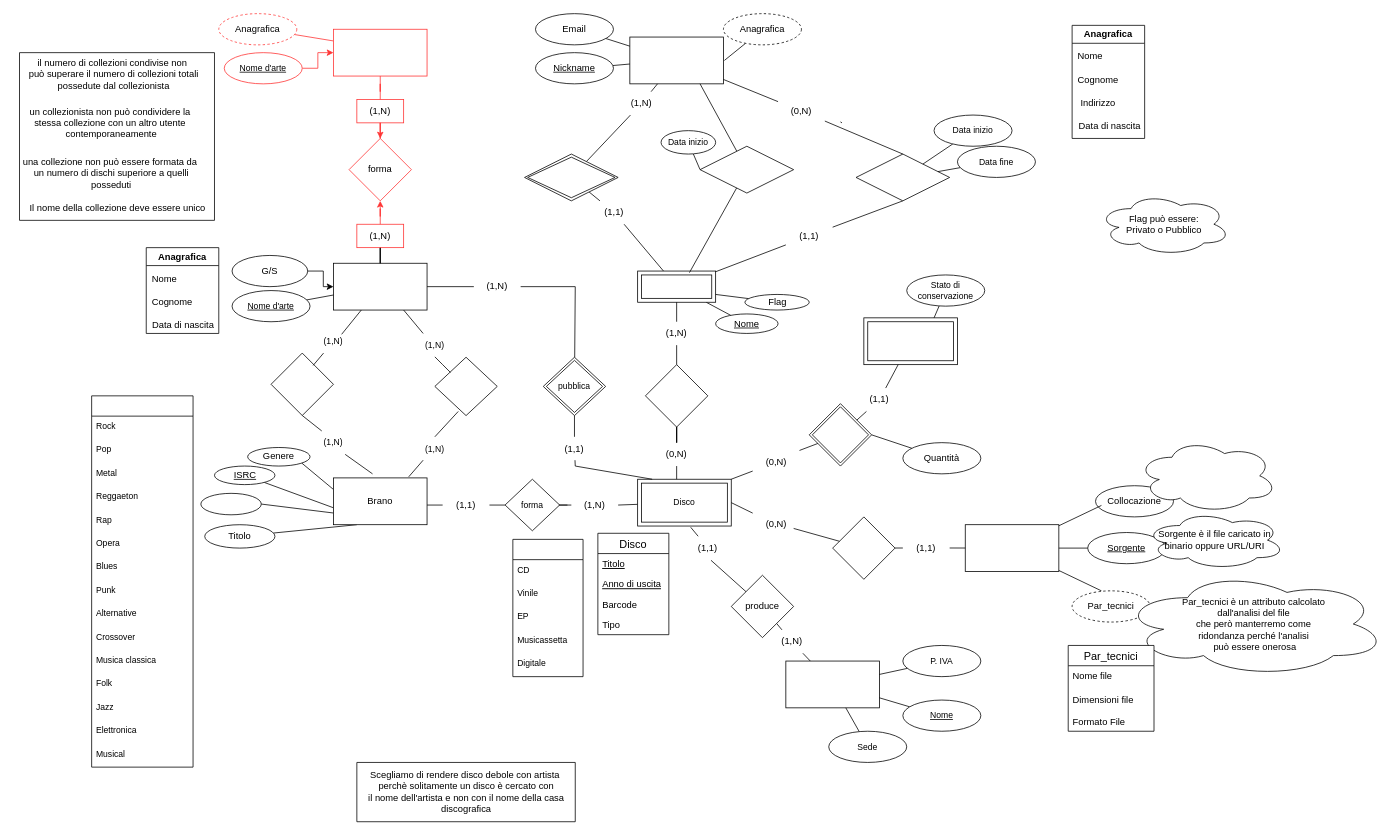
Image size: 1400x835. Some labels were removed from this diagram. Here are the shapes that lost their labels. From the top down, the box of each, then its label:
(333, 28, 427, 76): Persona
(629, 36, 723, 84): Collezionista
(19, 52, 214, 220): REGOLE DI VINCOLO
(524, 153, 618, 201): Possiede
(699, 145, 794, 193): condivisa
(855, 153, 950, 201): è stata condivisa
(333, 262, 427, 310): Artista
(637, 270, 716, 302): Collezione
(863, 317, 957, 365): Copia
(270, 352, 333, 416): compone
(434, 356, 497, 416): esegue
(645, 364, 708, 427): Contiene
(808, 403, 872, 466): quantizza
(1136, 438, 1277, 513): Posizione dell'immagine fisica sul disco: copertina,retro...
(200, 493, 261, 515): Durata
(832, 516, 895, 579): Raffigura
(964, 524, 1059, 572): Immagini
(91, 395, 193, 767): Genere(ENUM)
(512, 539, 583, 677): Tipo (ENUM)
(785, 660, 879, 708): Etichetta
